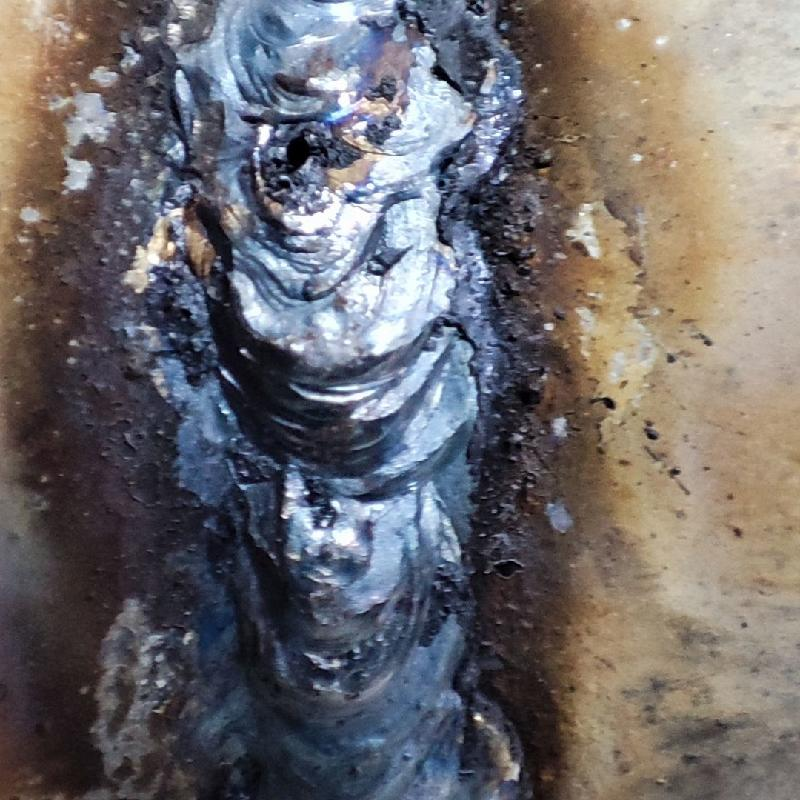Surface_pores: (264, 118, 332, 195)
